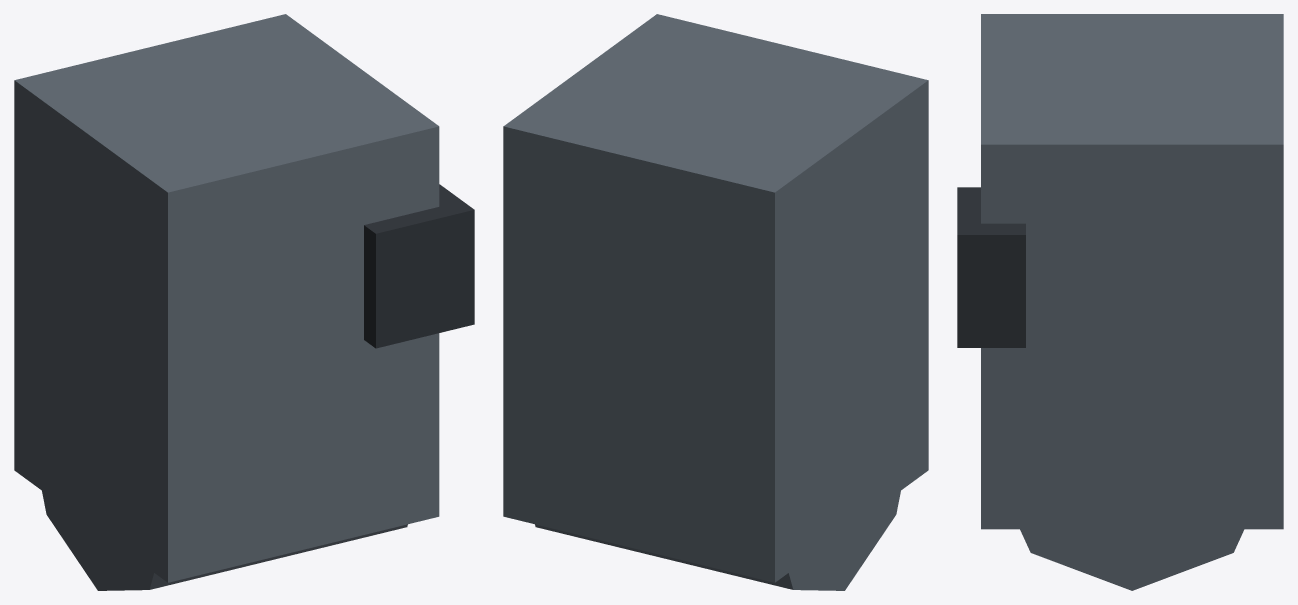
File: pc_recon_upper_leg.fbx
3 renders of one model, left to right at view 1: azimuth 30°, elevation 25°; view 2: azimuth 150°, elevation 25°; view 3: azimuth 270°, elevation 25°, orthographic.
Parts seen in each view (by area): view 1: pc_recon_upper_leg; view 2: pc_recon_upper_leg; view 3: pc_recon_upper_leg.
Boxes of the visible parts, box(x1,y1,x2,y2) form: pc_recon_upper_leg: box(14, 14, 474, 590); pc_recon_upper_leg: box(503, 14, 928, 590); pc_recon_upper_leg: box(957, 14, 1283, 590).
Size of the model in its own units: 108 by 159 by 105.
